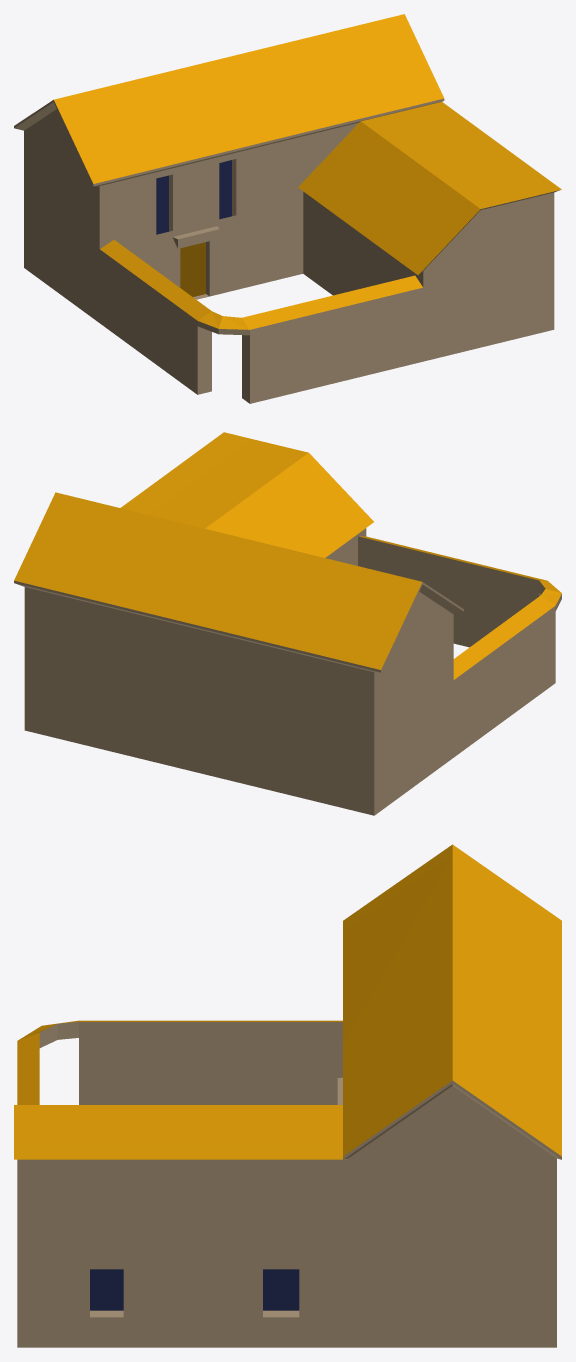
The model's file is House3.fbx.
The picture shows the model from 3 angles, top to bottom: view 1: azimuth 30°, elevation 25°; view 2: azimuth 150°, elevation 25°; view 3: azimuth 270°, elevation 25°; orthographic projection. The views are drawn at different scales.
Visible parts, largest first — view 1: pCube9; view 2: pCube9; view 3: pCube9.
Boxes of the visible parts, x1=… form: pCube9: x1=14, y1=14, x2=561, y2=403; pCube9: x1=14, y1=432, x2=561, y2=815; pCube9: x1=14, y1=844, x2=561, y2=1347.
Size of the model in its own units: 2.68 by 1.44 by 2.63.
